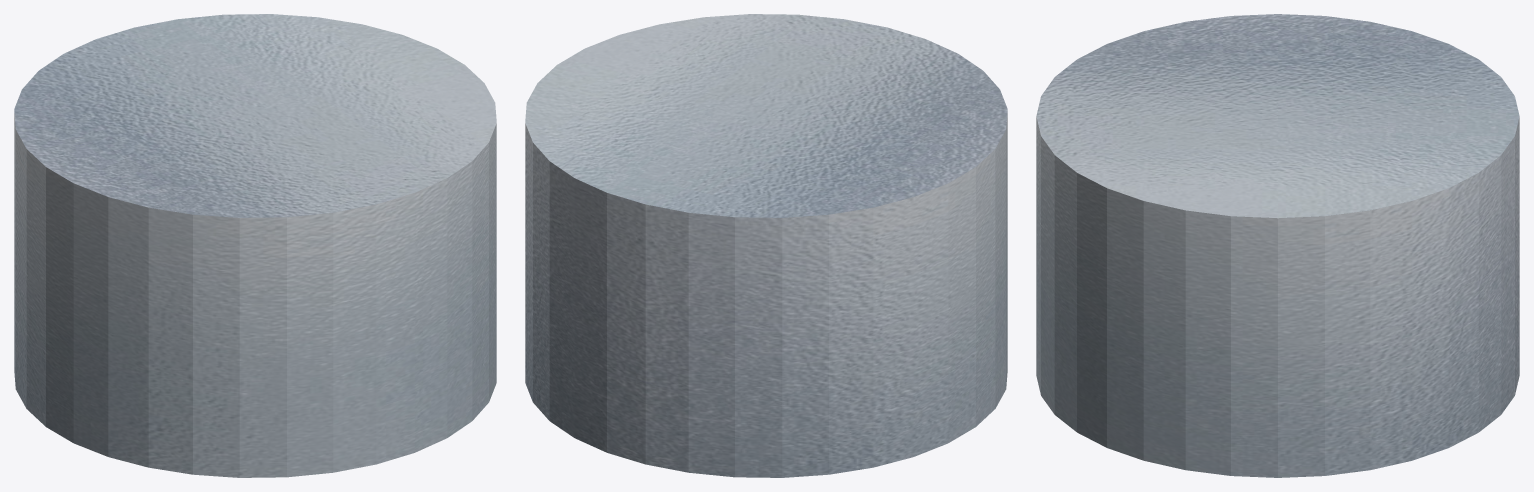
File: OSDE-OLD.gltf
3 renders of one model, left to right at view 1: azimuth 30°, elevation 25°; view 2: azimuth 150°, elevation 25°; view 3: azimuth 270°, elevation 25°, orthographic.
Parts seen in each view (by area): view 1: OSDE; view 2: OSDE; view 3: OSDE.
Part boxes in pixels (x1,y1,x2,y2): OSDE: [14, 14, 496, 477]; OSDE: [525, 14, 1007, 477]; OSDE: [1036, 14, 1519, 477].
Size of the model in its own units: 0.6286 by 0.3729 by 0.6286.
1 material, 1 textured.
